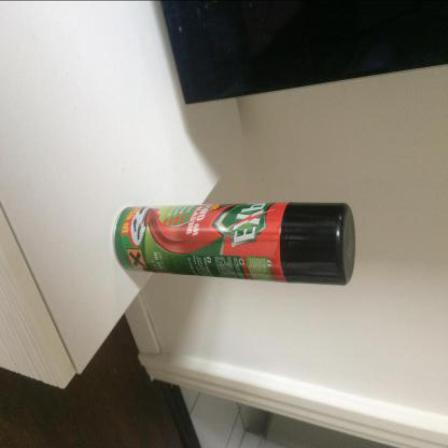Can: (114, 204, 357, 287)
Lid: (282, 204, 356, 287)
